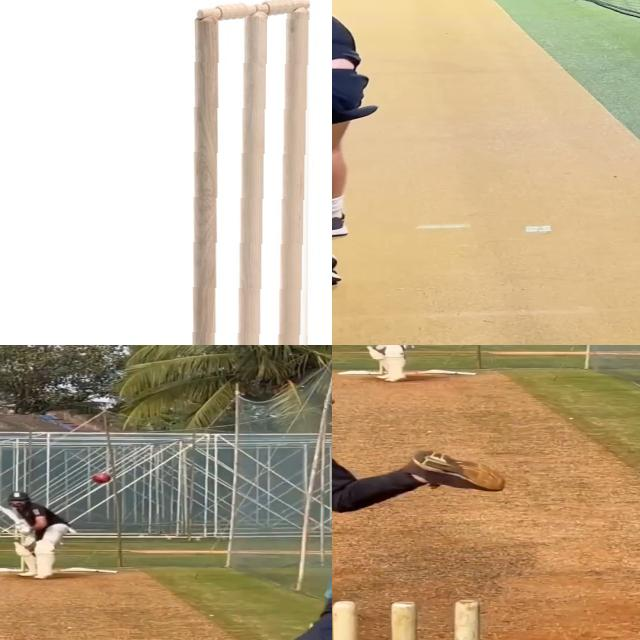Cricket ball: (92, 473, 111, 484), (332, 397, 335, 405)
Stumps: (191, 0, 314, 345), (332, 600, 480, 640)
